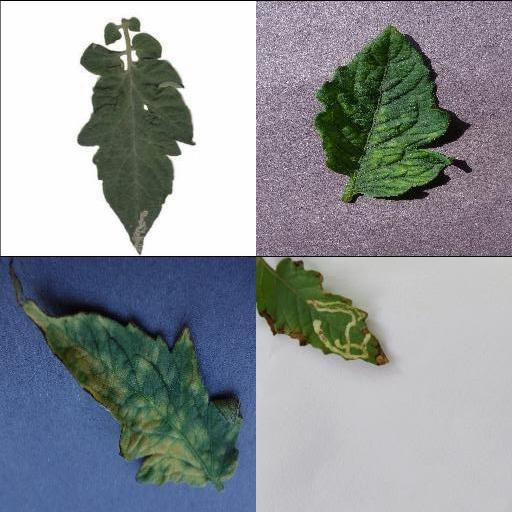Leaf Miner: (73, 56, 195, 255), (256, 256, 391, 366)
Leaf Mold: (19, 297, 243, 483)
Mosaic Virus: (316, 24, 454, 198)
